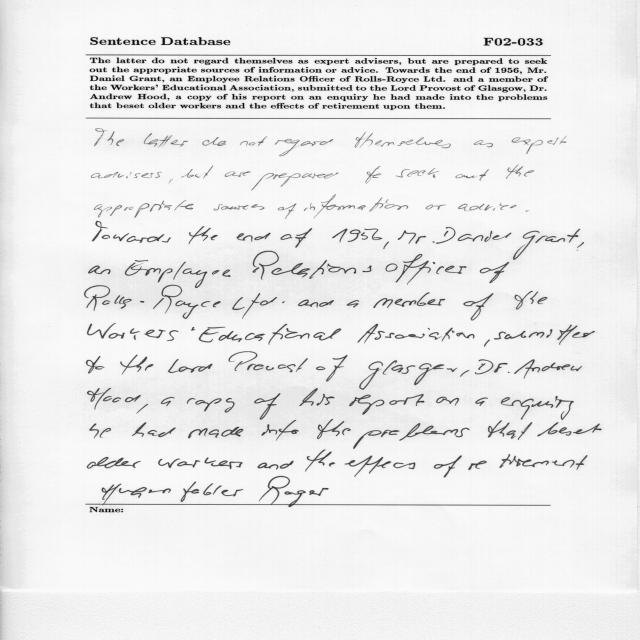word: (86, 476, 329, 505), (84, 285, 221, 319), (252, 251, 372, 280), (354, 423, 470, 449), (199, 324, 341, 345), (359, 360, 458, 390), (125, 260, 231, 288), (386, 254, 467, 285), (304, 195, 408, 219), (331, 394, 424, 420), (358, 324, 475, 343), (513, 229, 580, 260), (88, 323, 195, 341), (468, 454, 588, 470), (504, 324, 595, 345), (95, 200, 194, 218), (501, 396, 574, 420), (92, 221, 171, 243), (228, 352, 308, 373), (251, 173, 339, 191), (354, 132, 451, 148), (345, 456, 415, 477), (232, 293, 285, 319), (514, 359, 582, 379), (436, 227, 511, 244), (87, 388, 141, 410), (373, 292, 445, 308), (158, 458, 243, 470), (512, 136, 567, 154), (275, 139, 333, 156), (537, 423, 602, 437), (488, 420, 532, 440), (464, 293, 494, 321), (316, 355, 347, 381), (261, 420, 299, 441), (254, 393, 281, 420), (187, 398, 235, 413), (332, 229, 382, 243), (120, 355, 154, 375), (144, 133, 188, 148), (132, 423, 176, 438), (299, 388, 335, 406), (87, 457, 141, 469), (317, 420, 351, 439), (280, 228, 312, 248), (168, 359, 213, 373), (305, 450, 335, 471), (434, 456, 462, 478), (480, 262, 509, 283), (188, 427, 243, 438), (515, 291, 548, 309), (475, 360, 510, 375), (189, 227, 218, 245), (398, 230, 435, 244), (95, 129, 124, 146), (458, 203, 516, 211), (181, 165, 213, 179), (396, 168, 439, 178), (92, 172, 162, 178), (506, 165, 534, 179), (455, 169, 489, 180), (214, 204, 265, 211), (484, 331, 506, 347), (86, 356, 105, 374), (298, 299, 334, 308), (258, 461, 294, 470), (90, 424, 111, 439), (237, 233, 271, 242), (365, 166, 381, 183), (240, 137, 267, 147), (278, 204, 296, 219), (202, 137, 226, 146), (88, 266, 111, 275), (436, 397, 459, 406), (309, 488, 329, 496), (225, 171, 251, 177), (474, 140, 493, 147), (161, 397, 174, 406), (475, 397, 488, 406), (137, 404, 148, 414), (426, 205, 446, 210), (347, 300, 359, 308), (577, 242, 584, 251), (460, 370, 469, 377), (383, 242, 389, 249), (169, 179, 173, 183), (526, 210, 529, 212)
